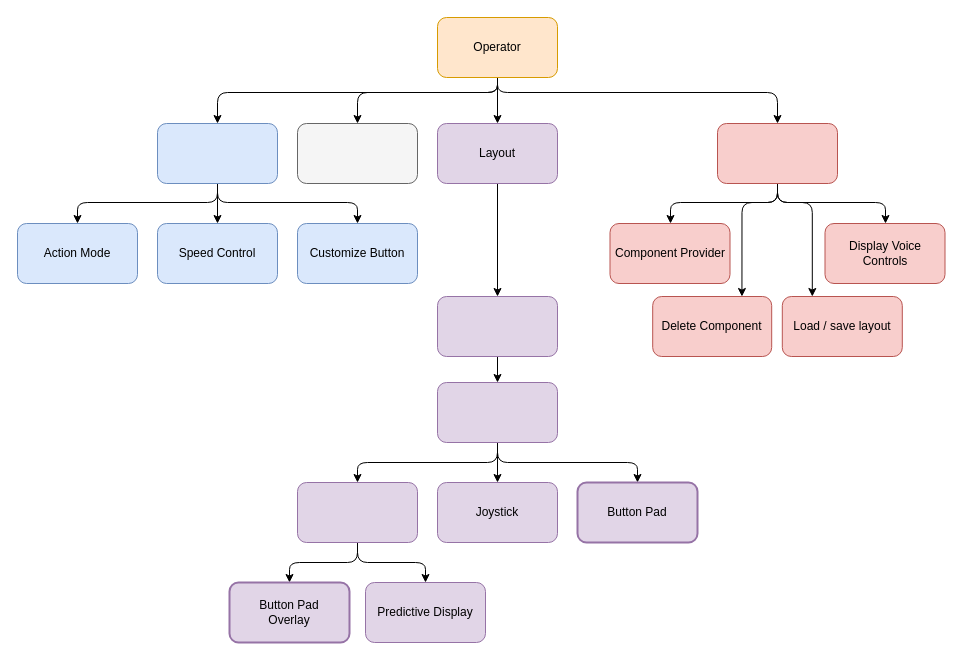
Some shapes in this 963 by 661 pixel diagram are drawn without their labels. Each missing label, with the centre of its shape:
Camera View: (x=357, y=512)
Header: (x=217, y=153)
Panel: (x=497, y=326)
Sidebar: (x=777, y=153)
Tabs: (x=497, y=412)
Voice Controls: (x=357, y=153)
